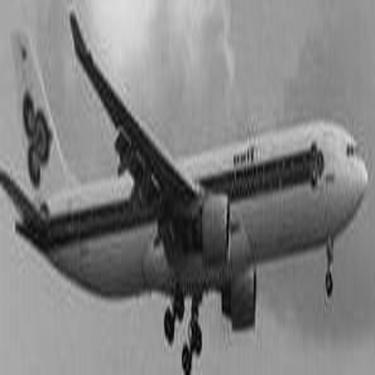airplane: (5, 6, 373, 355)
